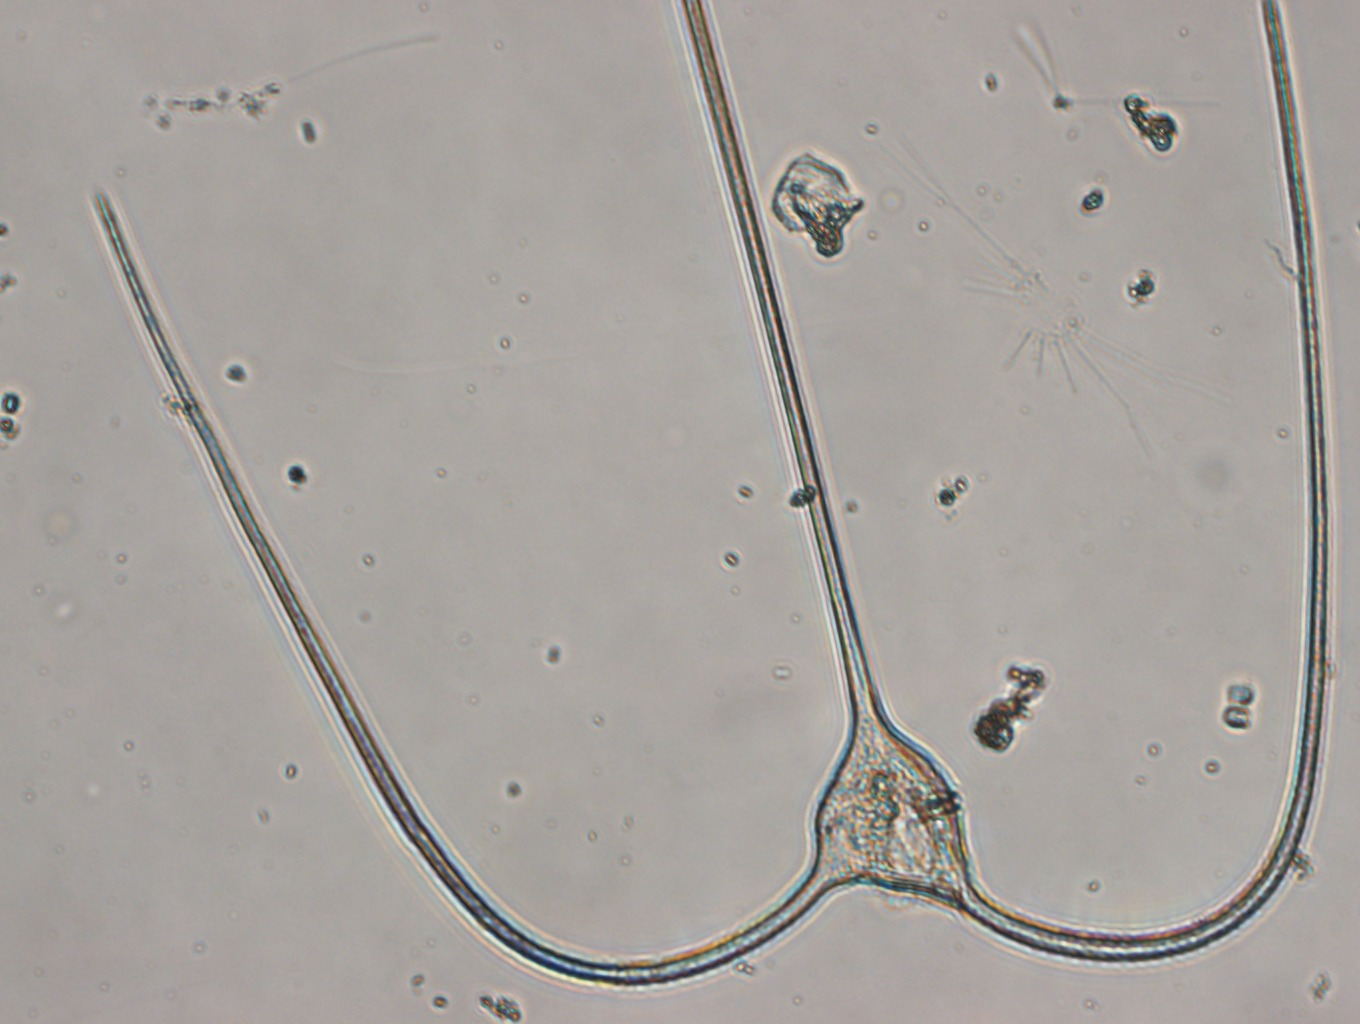ceratium trichoceros: (85, 1, 1360, 989)
